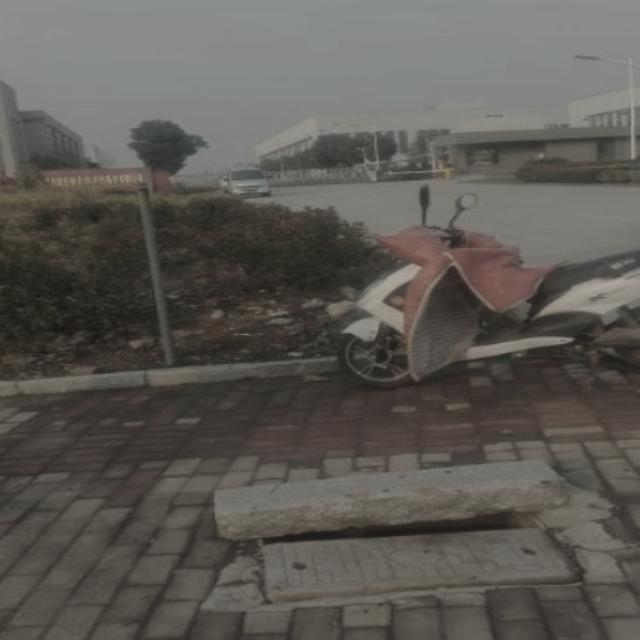uncovered: (212, 461, 589, 601)
